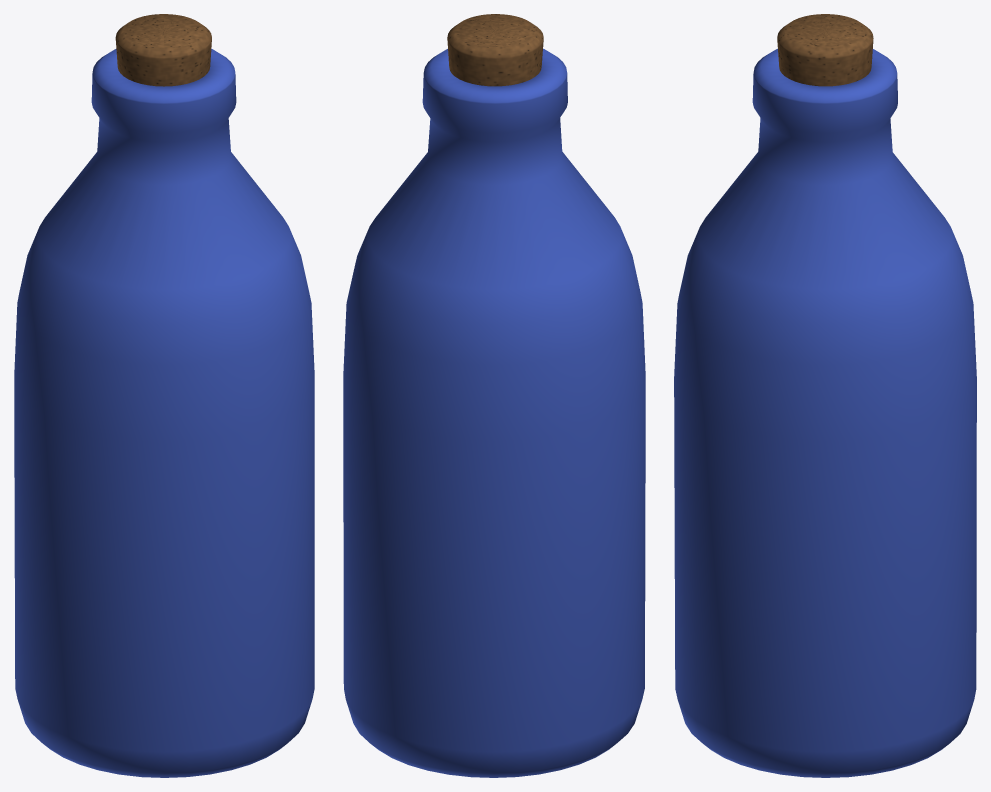
File: bottle_apothecary_lod1.glb
3 views of the same model, side by side, from view 1: azimuth 30°, elevation 25°; view 2: azimuth 150°, elevation 25°; view 3: azimuth 270°, elevation 25° (orthographic).
Visible parts, largest first — view 1: Glass, Cap; view 2: Glass, Cap; view 3: Glass, Cap.
Part boxes in pixels (x1,y1,x2,y2): Glass: [14, 49, 314, 777]; Cap: [115, 14, 211, 86]; Glass: [343, 48, 645, 777]; Cap: [447, 14, 543, 86]; Glass: [674, 48, 976, 777]; Cap: [777, 14, 873, 86].
Size of the model in its own units: 0.0463 by 0.1177 by 0.0466.
3 materials, 1 textured.
